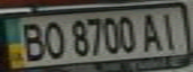0: (118, 12, 139, 54), (103, 14, 121, 54)
7: (84, 15, 106, 55)
8: (66, 16, 90, 56)
A: (136, 10, 166, 52)
B: (15, 19, 48, 62)
I: (154, 9, 184, 51)
O: (39, 18, 69, 61)
